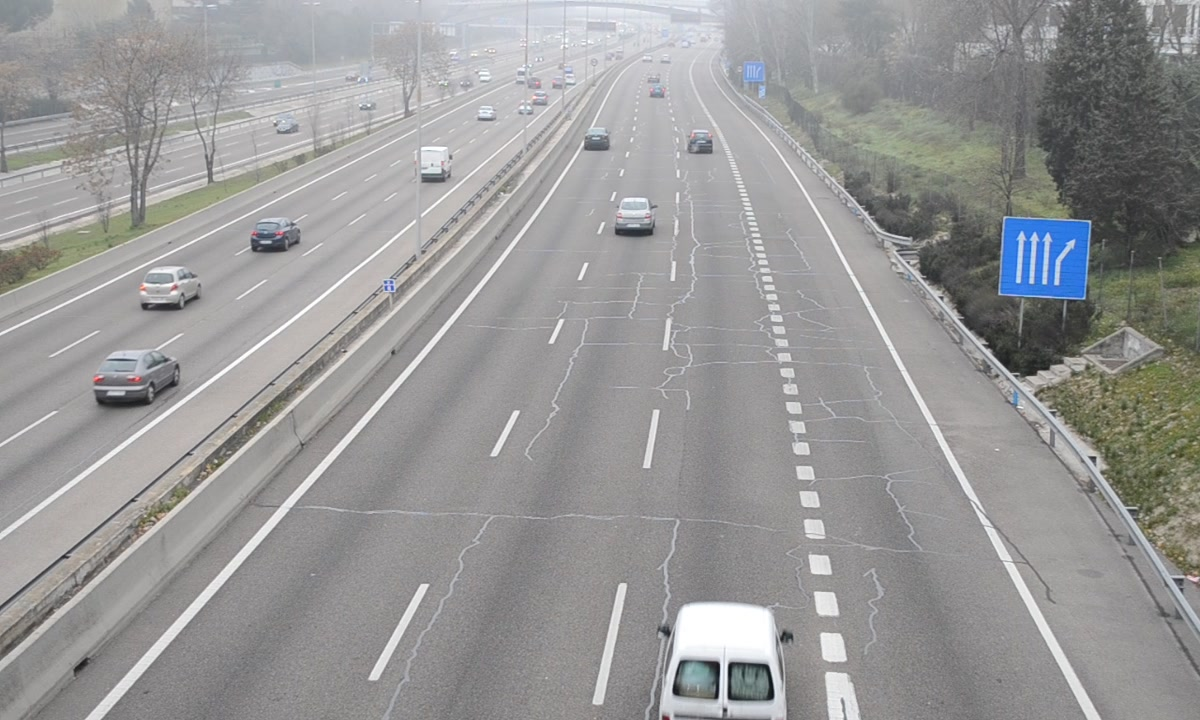car: (615, 196, 654, 233), (584, 126, 611, 152), (686, 129, 713, 154)
van: (659, 603, 790, 720)
